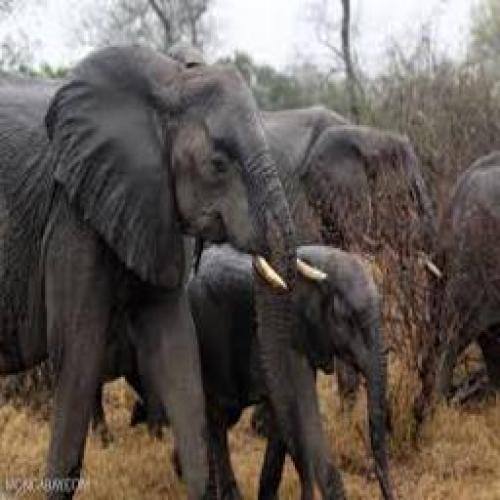african_elephant-endangered: (0, 44, 337, 498), (165, 244, 396, 500), (234, 110, 439, 260), (426, 158, 500, 432)
